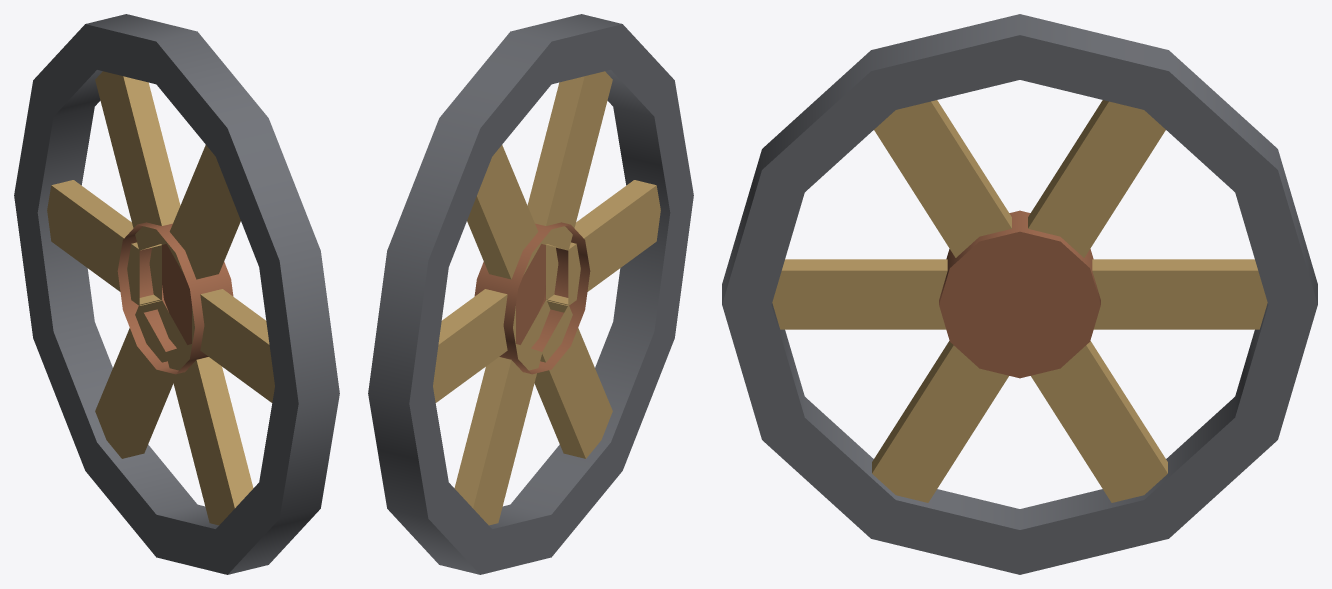
The model's file is WheelSingle.fbx.
3 views of the same model, side by side, from view 1: azimuth 30°, elevation 25°; view 2: azimuth 150°, elevation 25°; view 3: azimuth 270°, elevation 25° (orthographic). The views are drawn at different scales.
Parts seen in each view (by area): view 1: polySurface14; view 2: polySurface14; view 3: polySurface14.
Part boxes in pixels (x1=…): polySurface14: x1=14, y1=14, x2=339, y2=574; polySurface14: x1=368, y1=14, x2=693, y2=574; polySurface14: x1=722, y1=14, x2=1317, y2=574.
Size of the model in its own units: 9.07 by 108 by 108.
